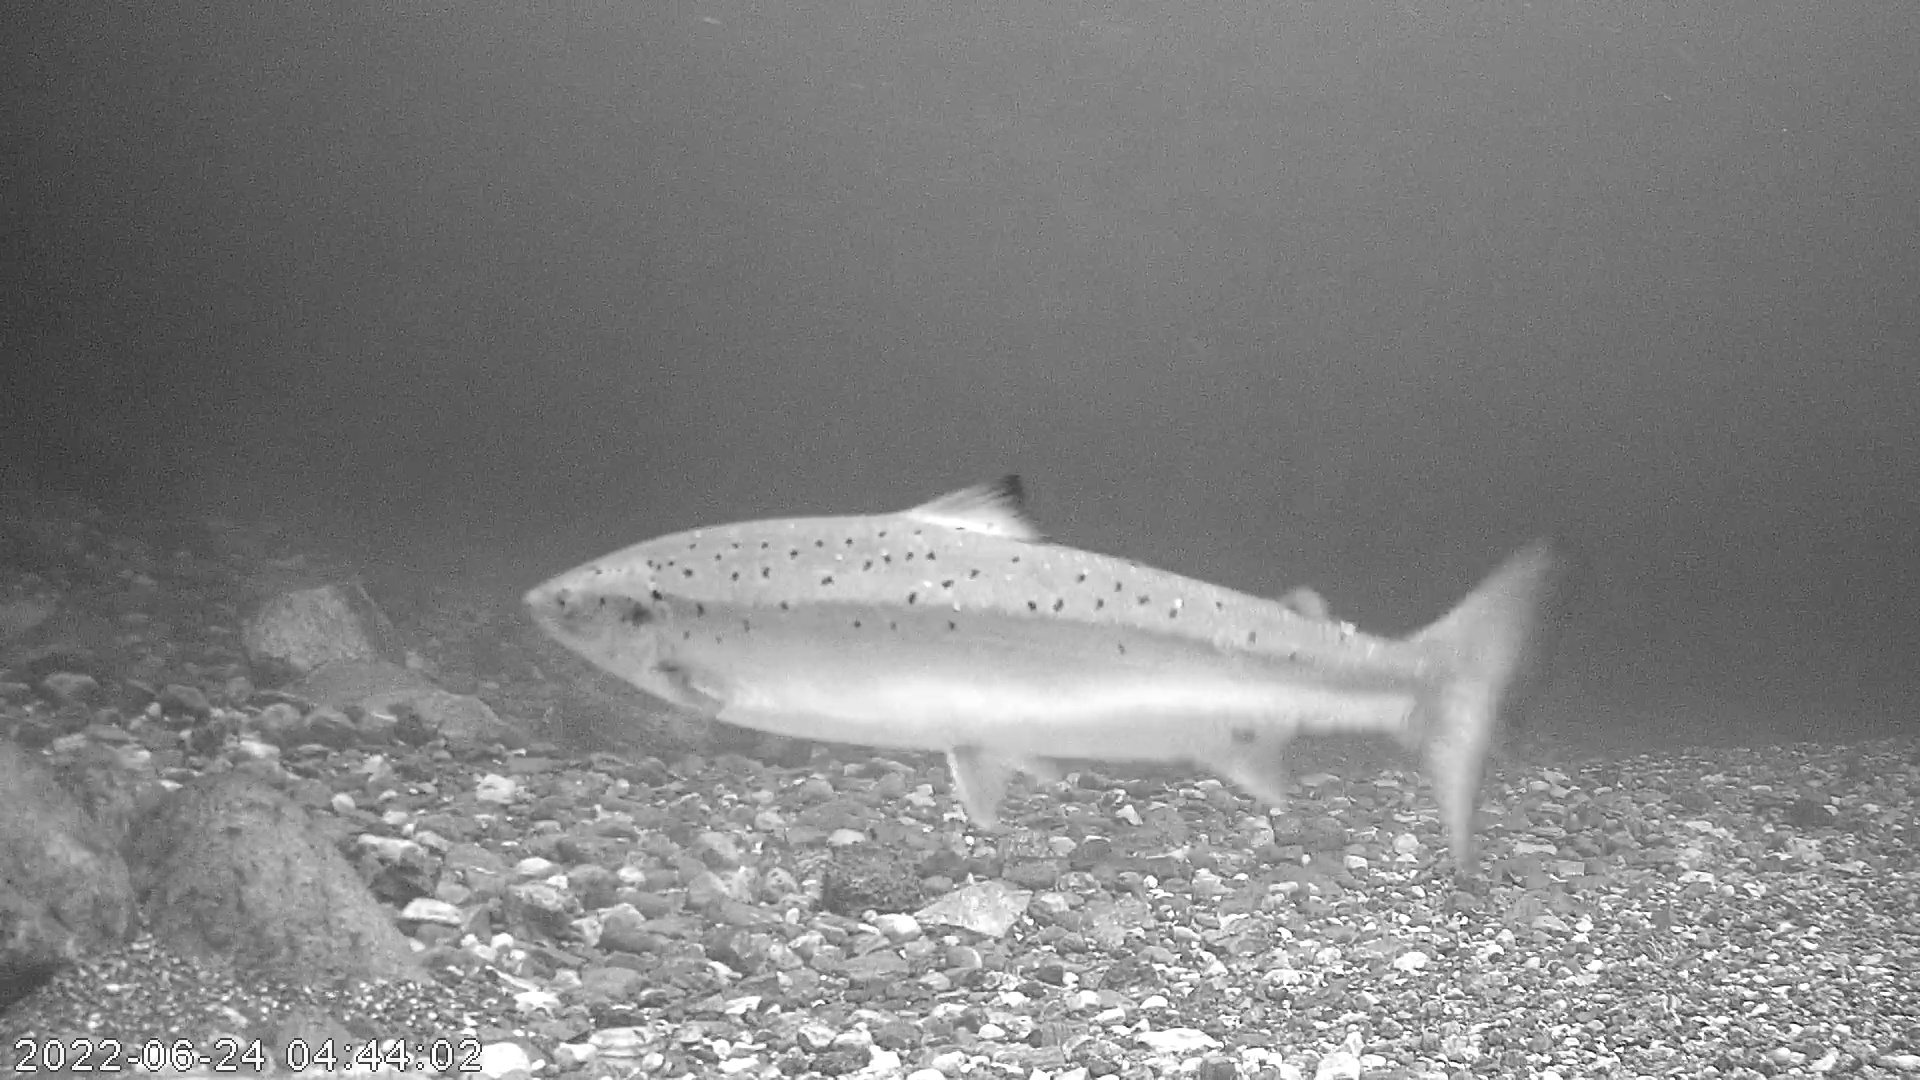salmon: (518, 467, 1564, 881)
